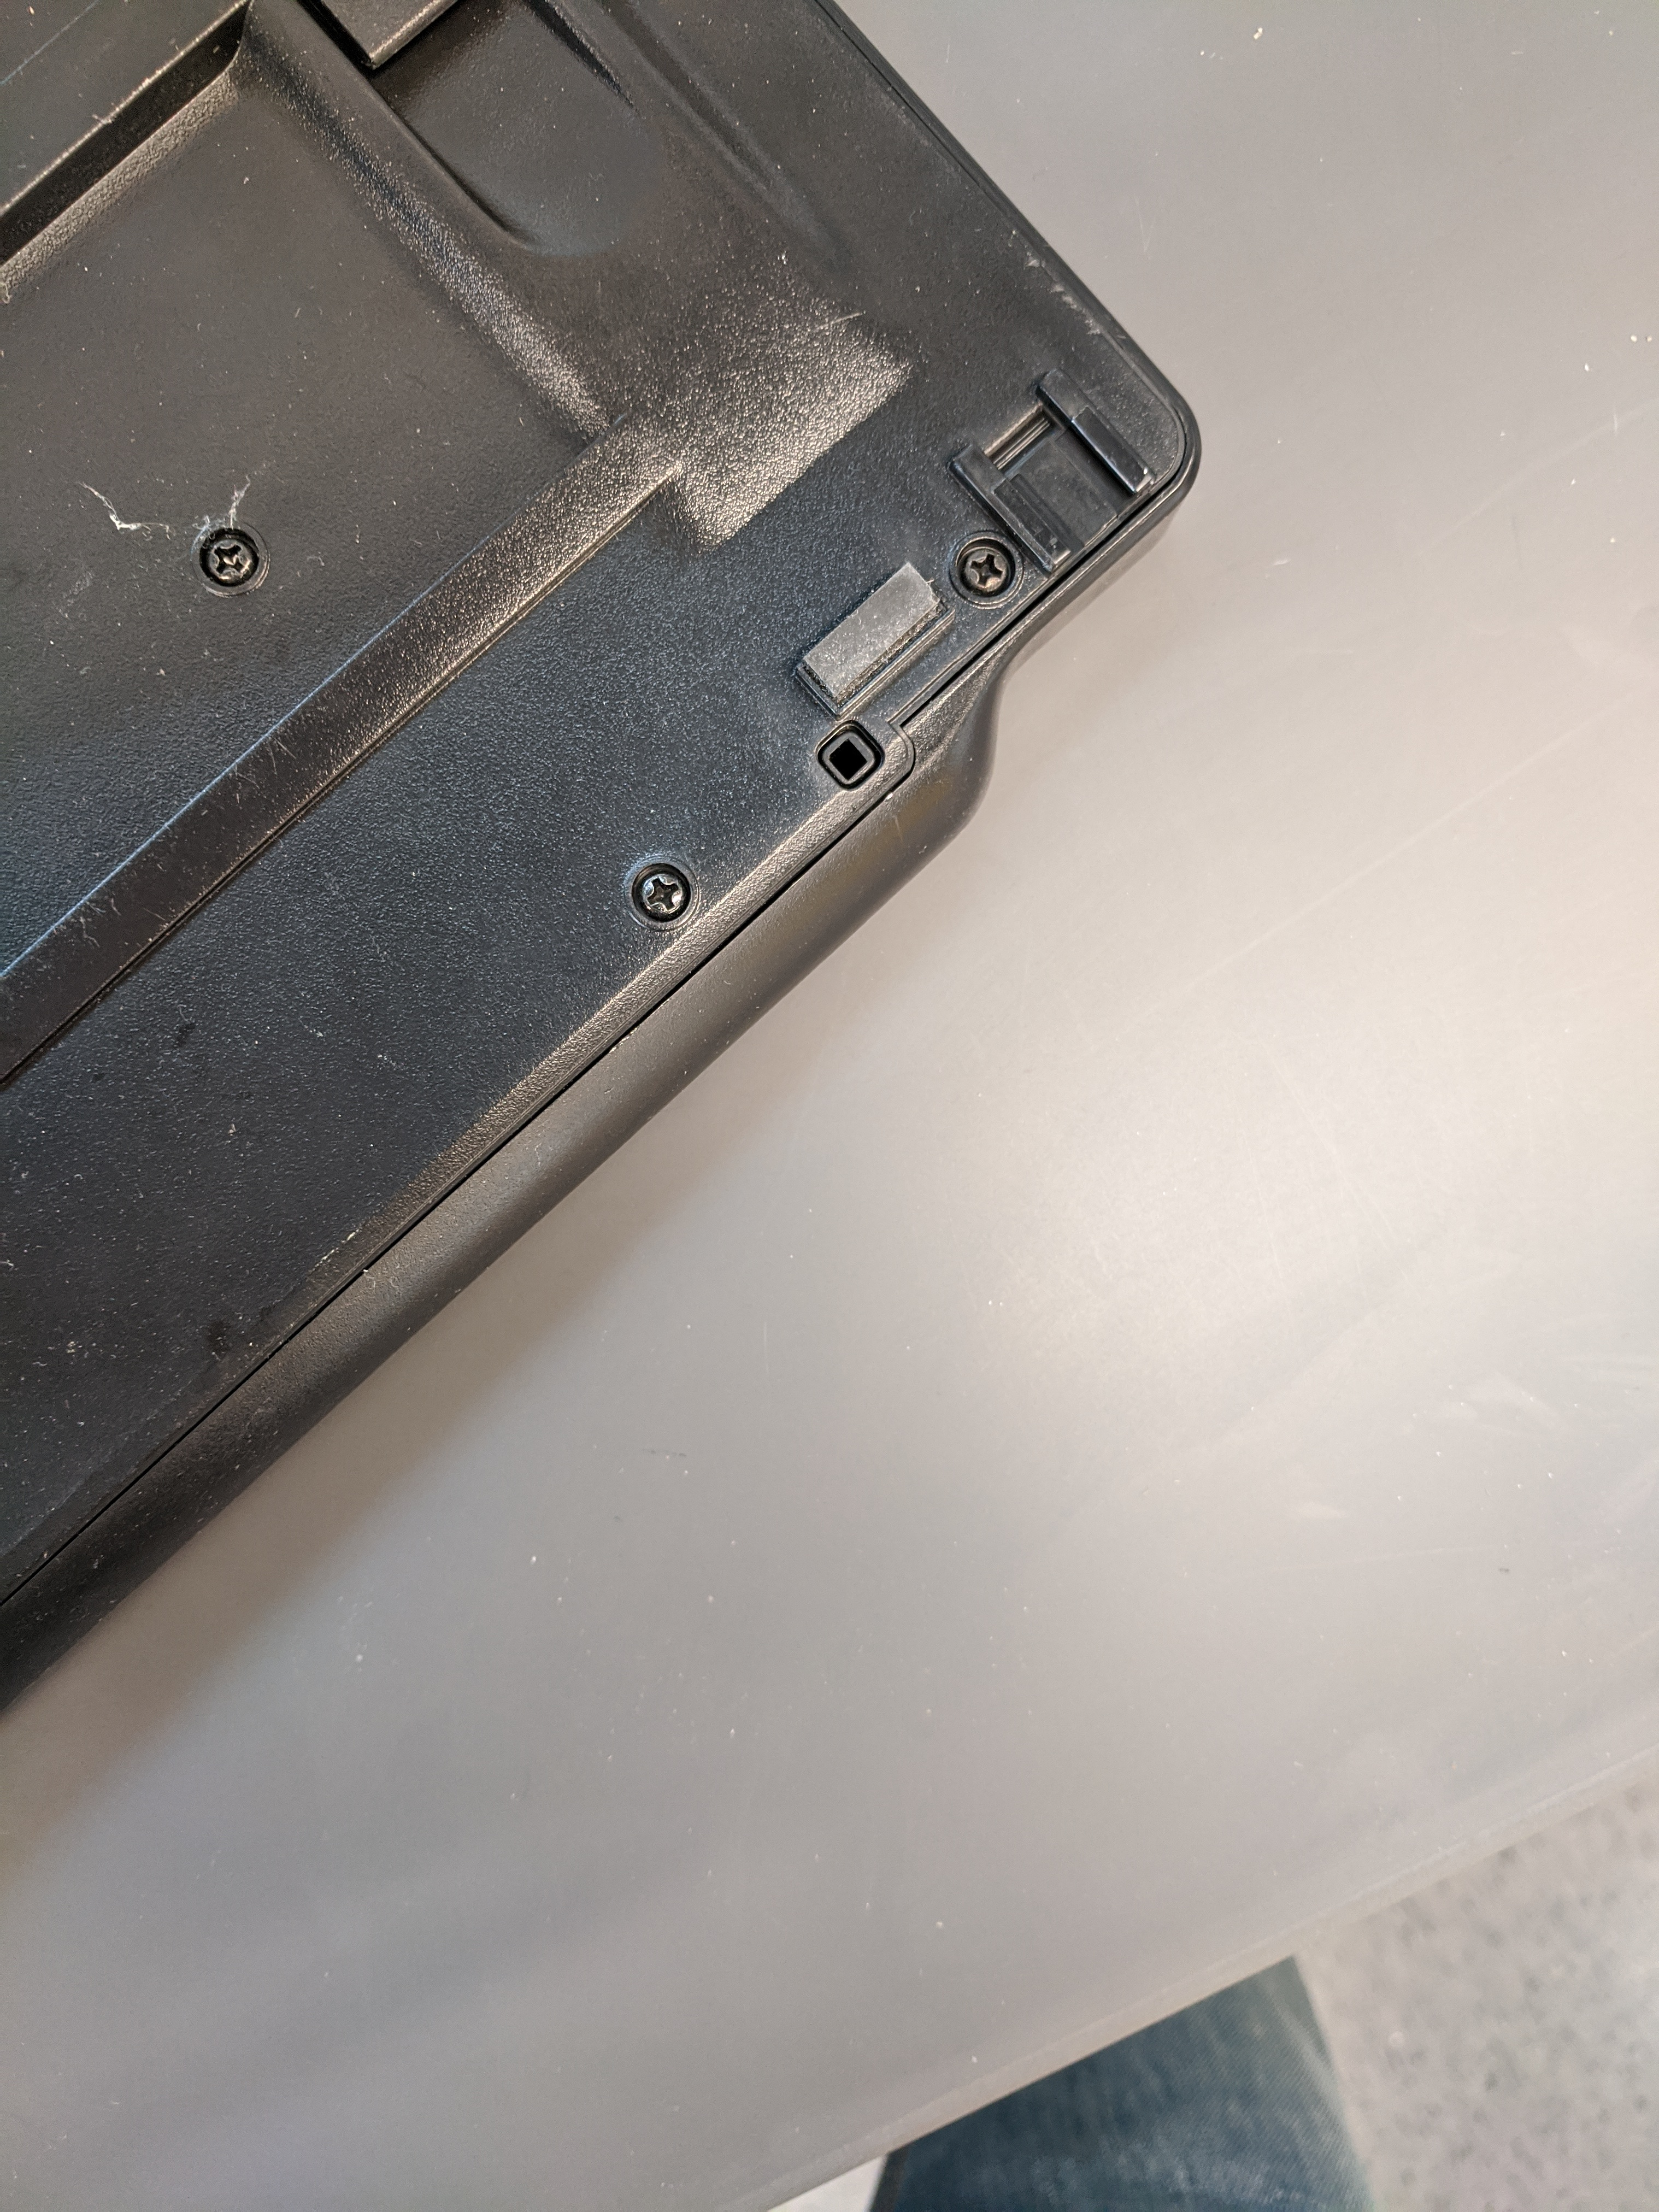cross_recessed_screw: (192, 516, 274, 590), (624, 850, 699, 927), (945, 531, 1019, 594)
